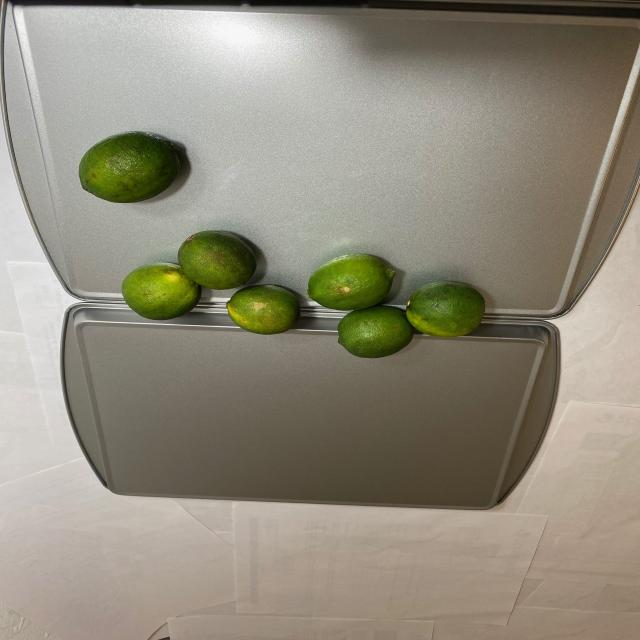lemon: (116, 230, 488, 358), (76, 131, 186, 207)
